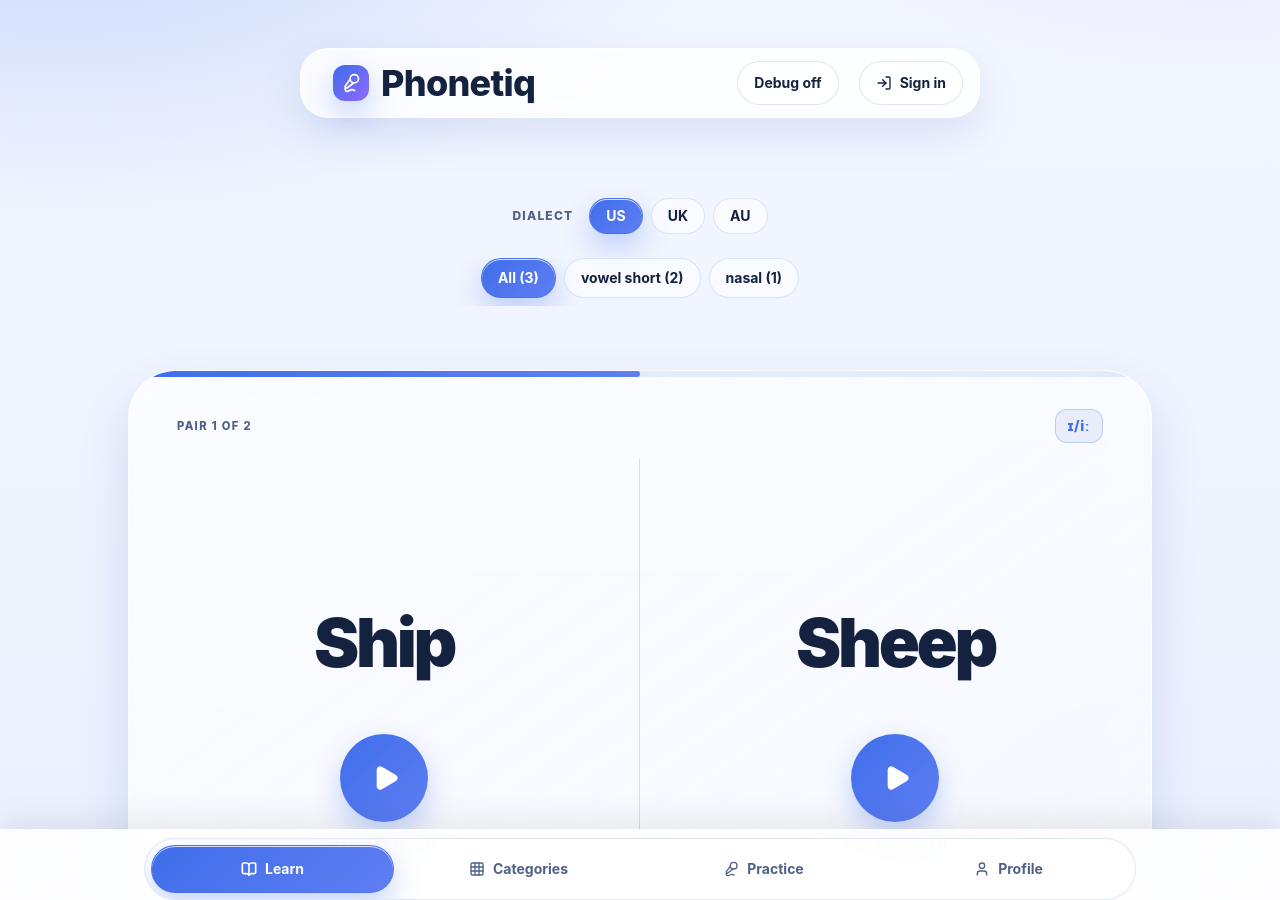
it: App › shows refresh batch control and resets to first pair in practice session
expect the text "Pair 1 of 2" is shown: met, box left=177, top=418, right=252, bottom=434
Click the button "Practice" at x=764, y=869, box left=643, top=845, right=884, bottom=893
(page scrolled)
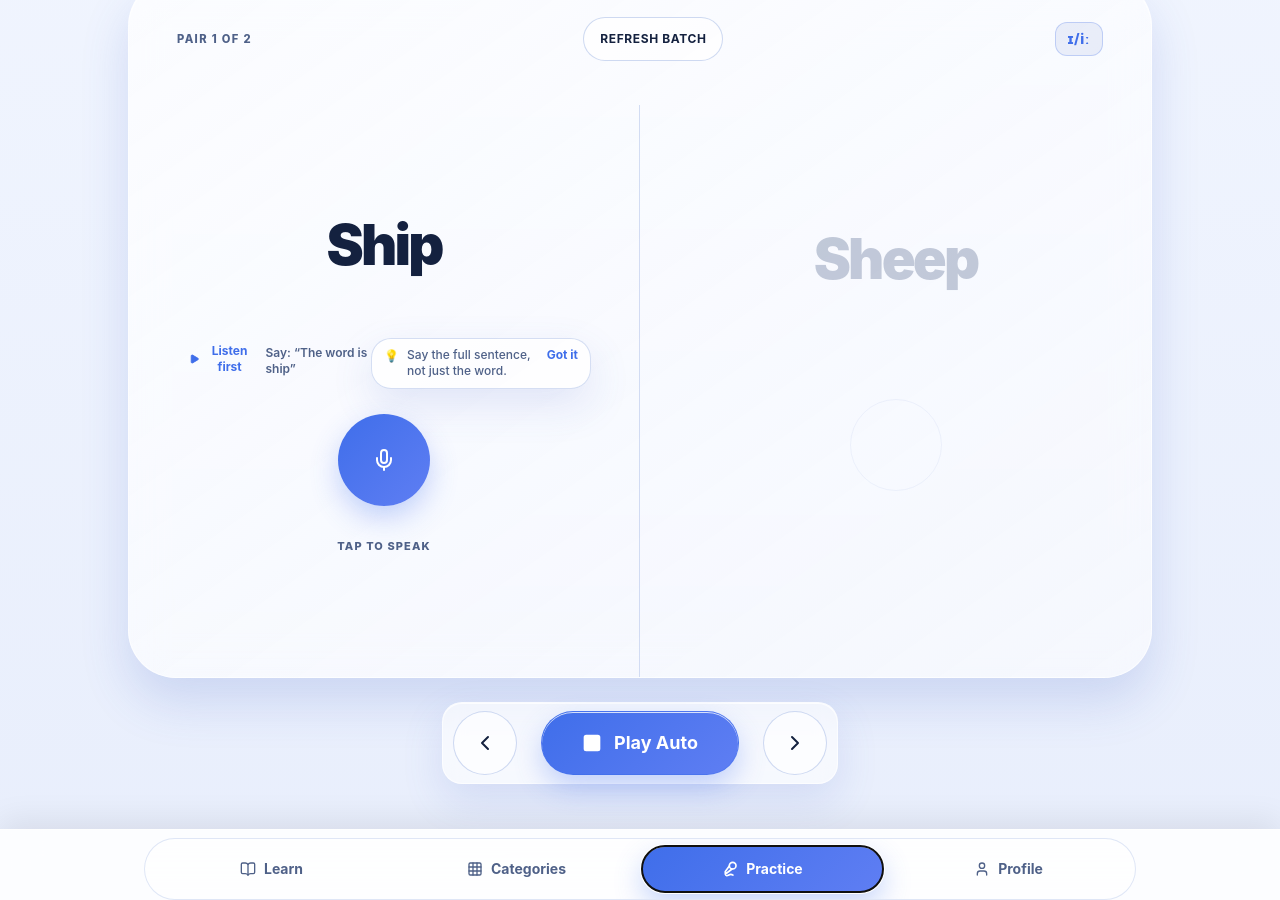
expect the button "Refresh batch" is shown: met, box left=583, top=17, right=724, bottom=61
Click the button named "next pair" at x=795, y=743, box left=763, top=711, right=827, bottom=775
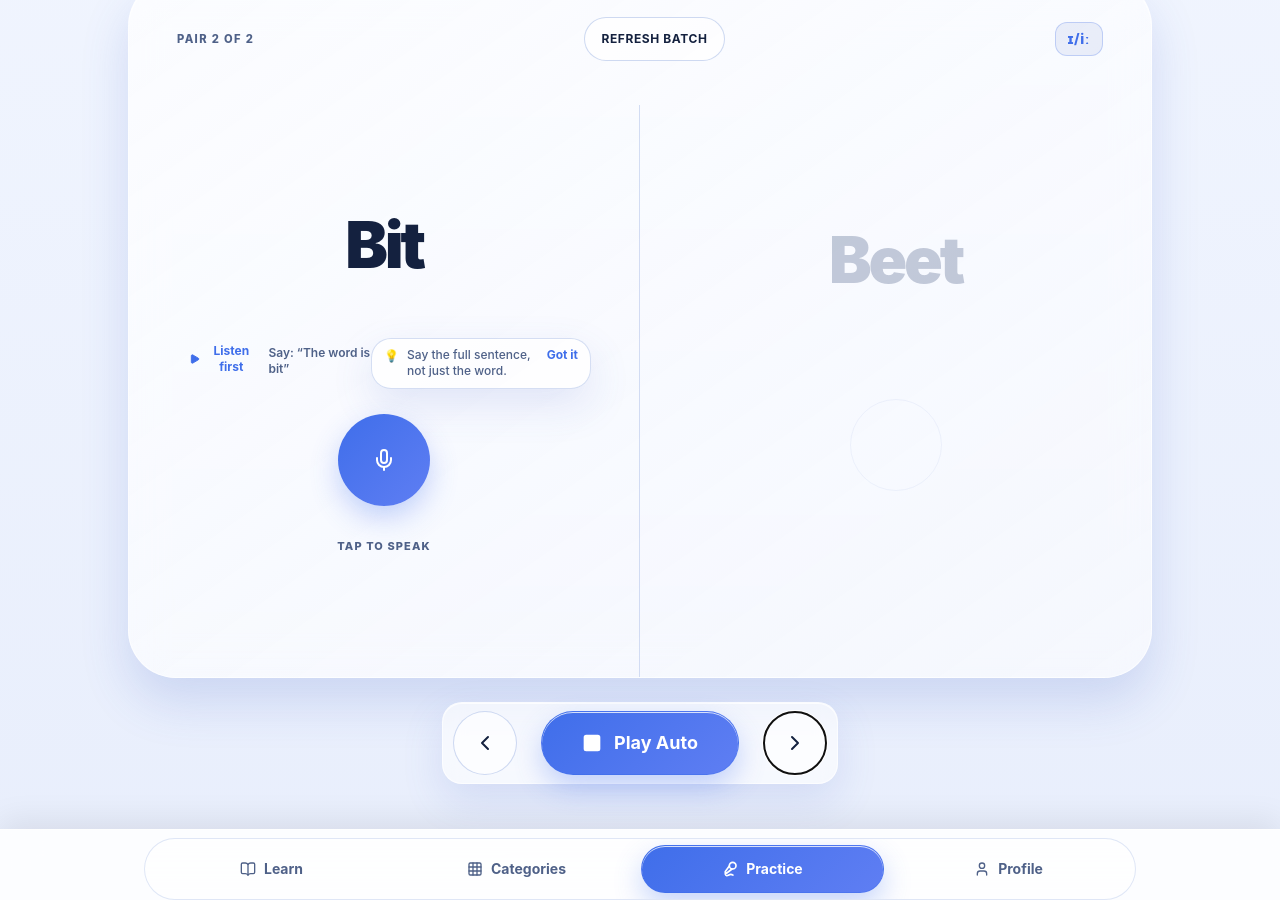
expect the text "Pair 2 of 2" is shown: met, box left=177, top=31, right=254, bottom=47
Click the button "Refresh batch" at x=654, y=39, box left=584, top=17, right=725, bottom=61
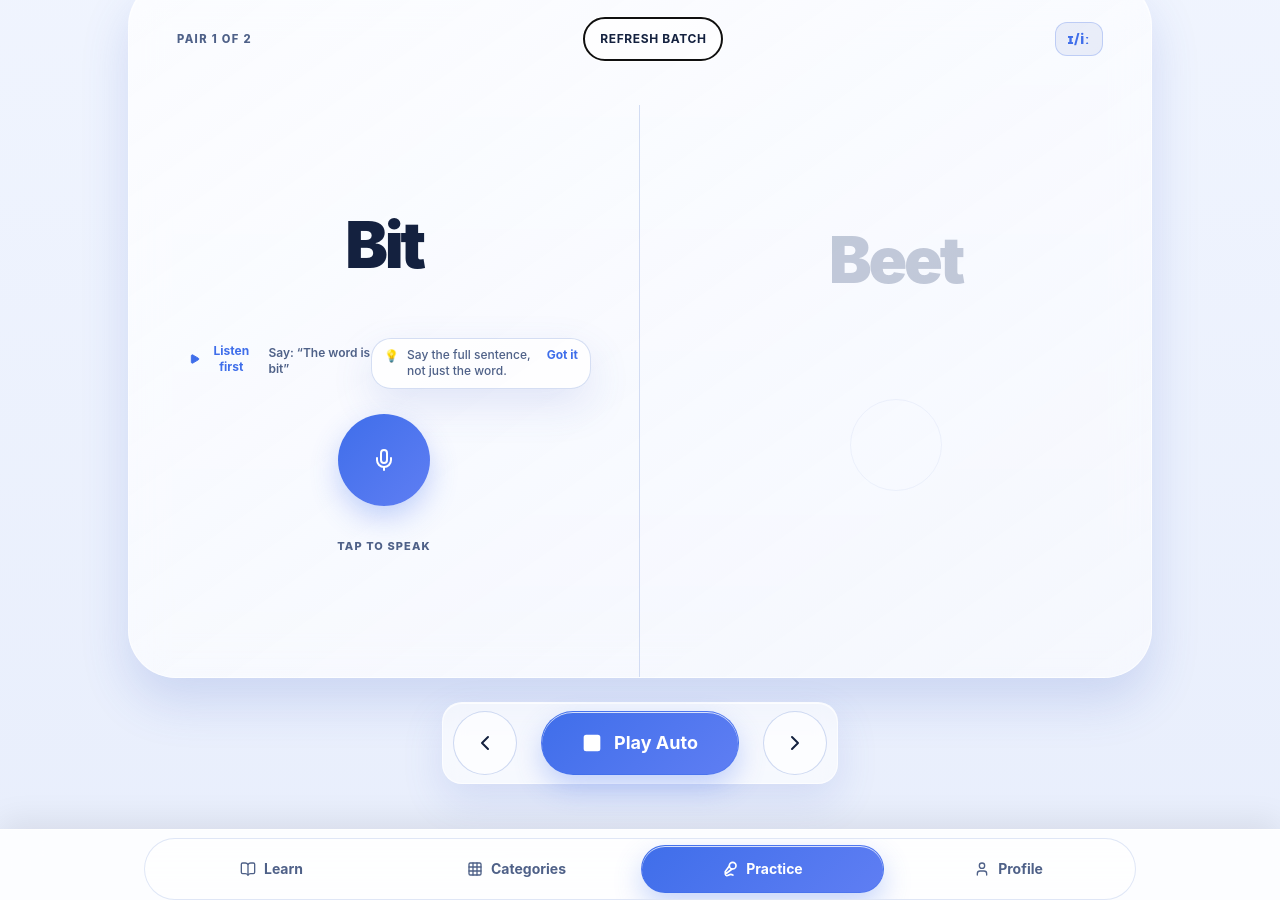
expect the text "Pair 1 of 2" is shown: met, box left=177, top=31, right=252, bottom=47
